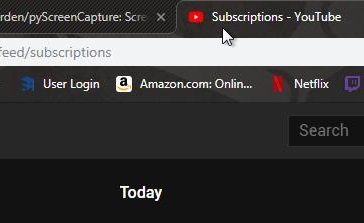cursor: (220, 26, 235, 47)
